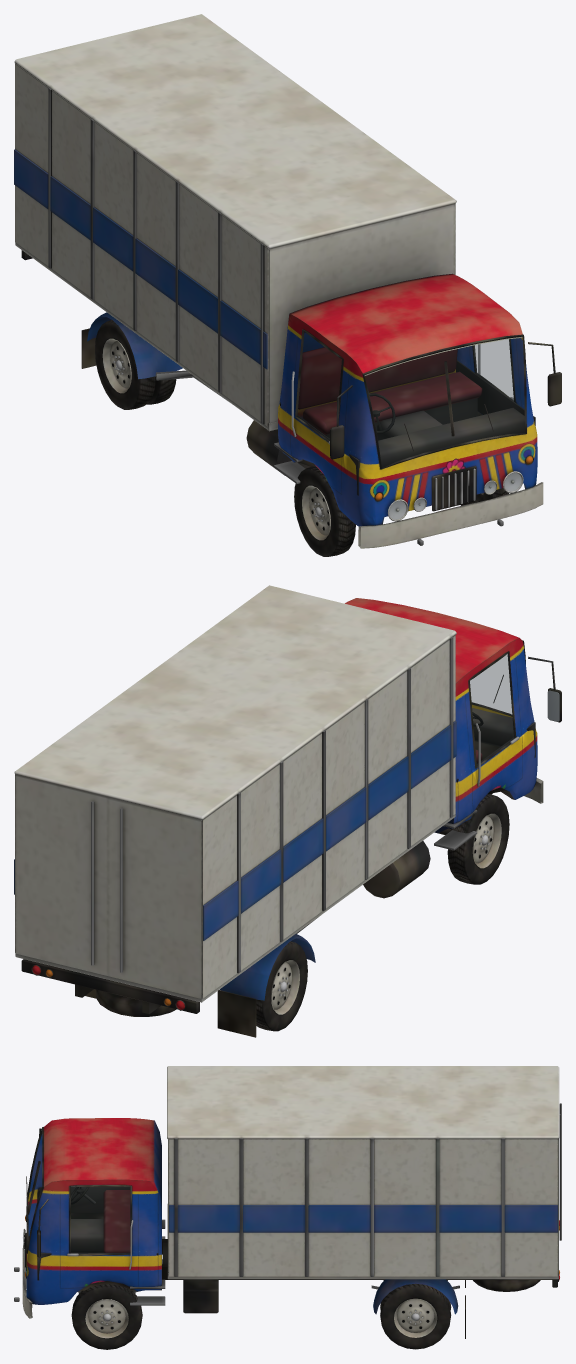
File: goods_van.glb
3 views of the same model, one above another, from view 1: azimuth 30°, elevation 25°; view 2: azimuth 150°, elevation 25°; view 3: azimuth 270°, elevation 25° (orthographic). The views are drawn at different scales.
Visible parts, largest first — view 1: body, glass, door_D, wheel_RR, wheel_FR, door_D_glass; view 2: body, door_D, wheel_FR, door_D_glass, wheel_RR, glass; view 3: body, glass, wheel_RL, wheel_FL, door_D.
Boxes of the visible parts, x1,y1,x2,y2 form: body: (14,14,561,548); glass: (365,337,524,518); door_D: (291,327,351,506); wheel_RR: (95,320,176,409); wheel_FR: (294,466,355,556); door_D_glass: (297,332,341,439); body: (14,585,561,1037); door_D: (465,645,524,817); wheel_FR: (447,794,509,884); door_D_glass: (470,654,513,765); wheel_RR: (256,941,307,1031); glass: (470,655,511,713); body: (14,1066,561,1338); glass: (23,1134,129,1285); wheel_RL: (380,1283,451,1349); wheel_FL: (71,1284,142,1349); door_D: (71,1186,130,1212).
Size of the model in its own units: 2.89 by 3.38 by 7.71.
2 materials, 1 textured.
